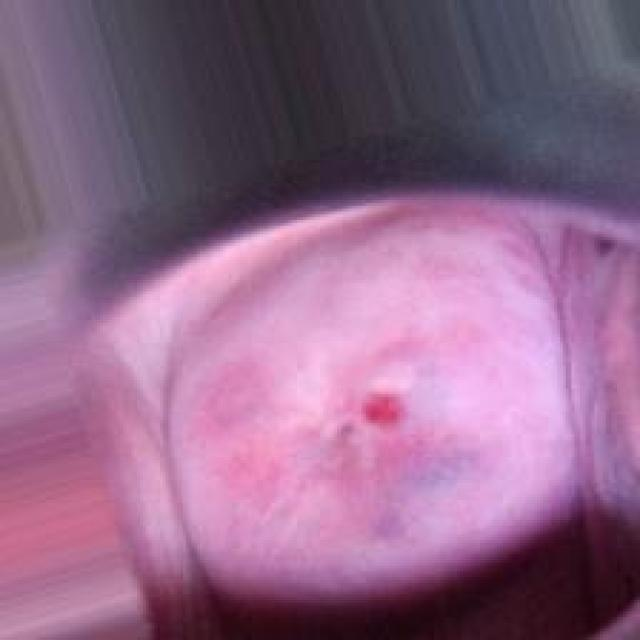type-3: (134, 171, 628, 608)
